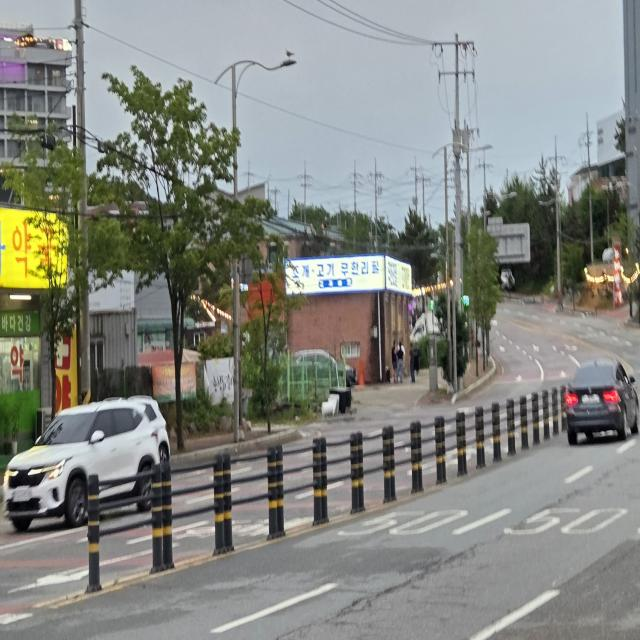car: (0, 391, 172, 540), (548, 340, 640, 468)
